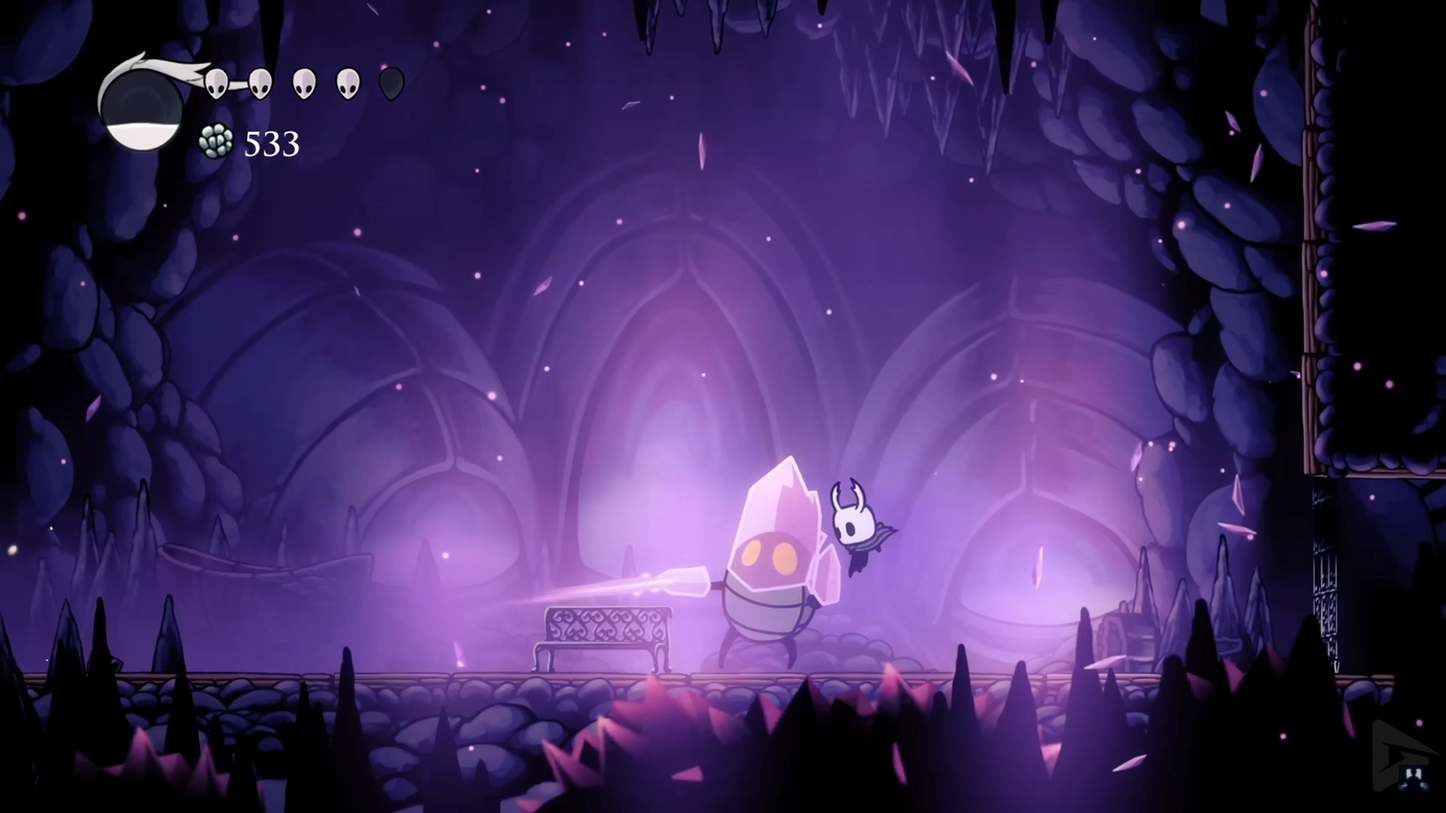HK: (828, 477, 886, 577)
